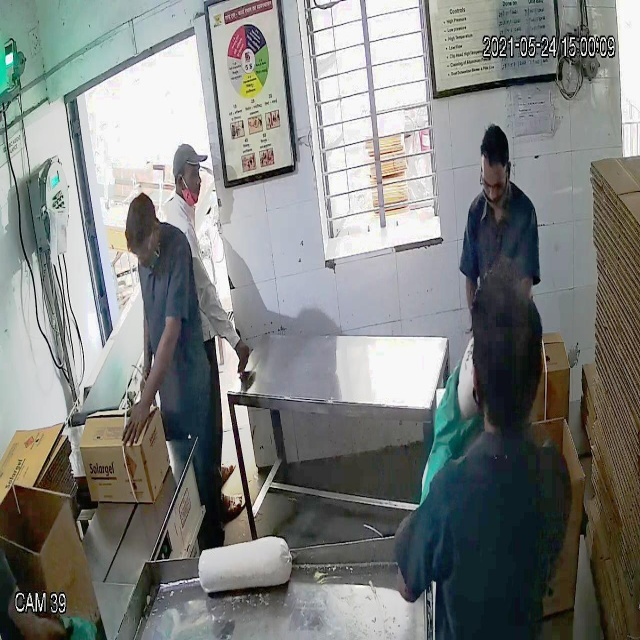Gafas: (476, 171, 514, 204)
